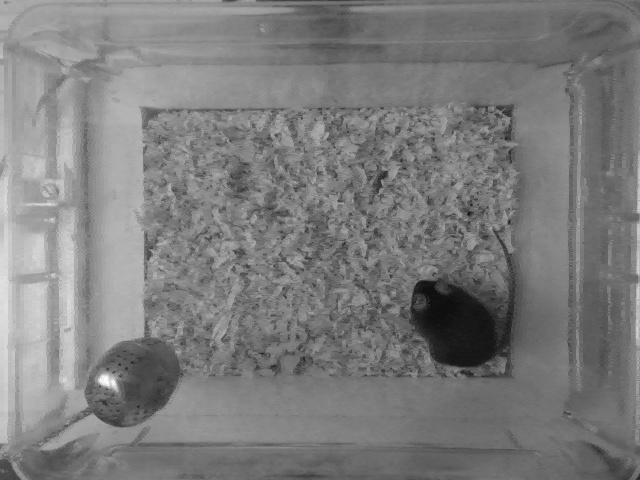mice: (410, 226, 514, 375)
